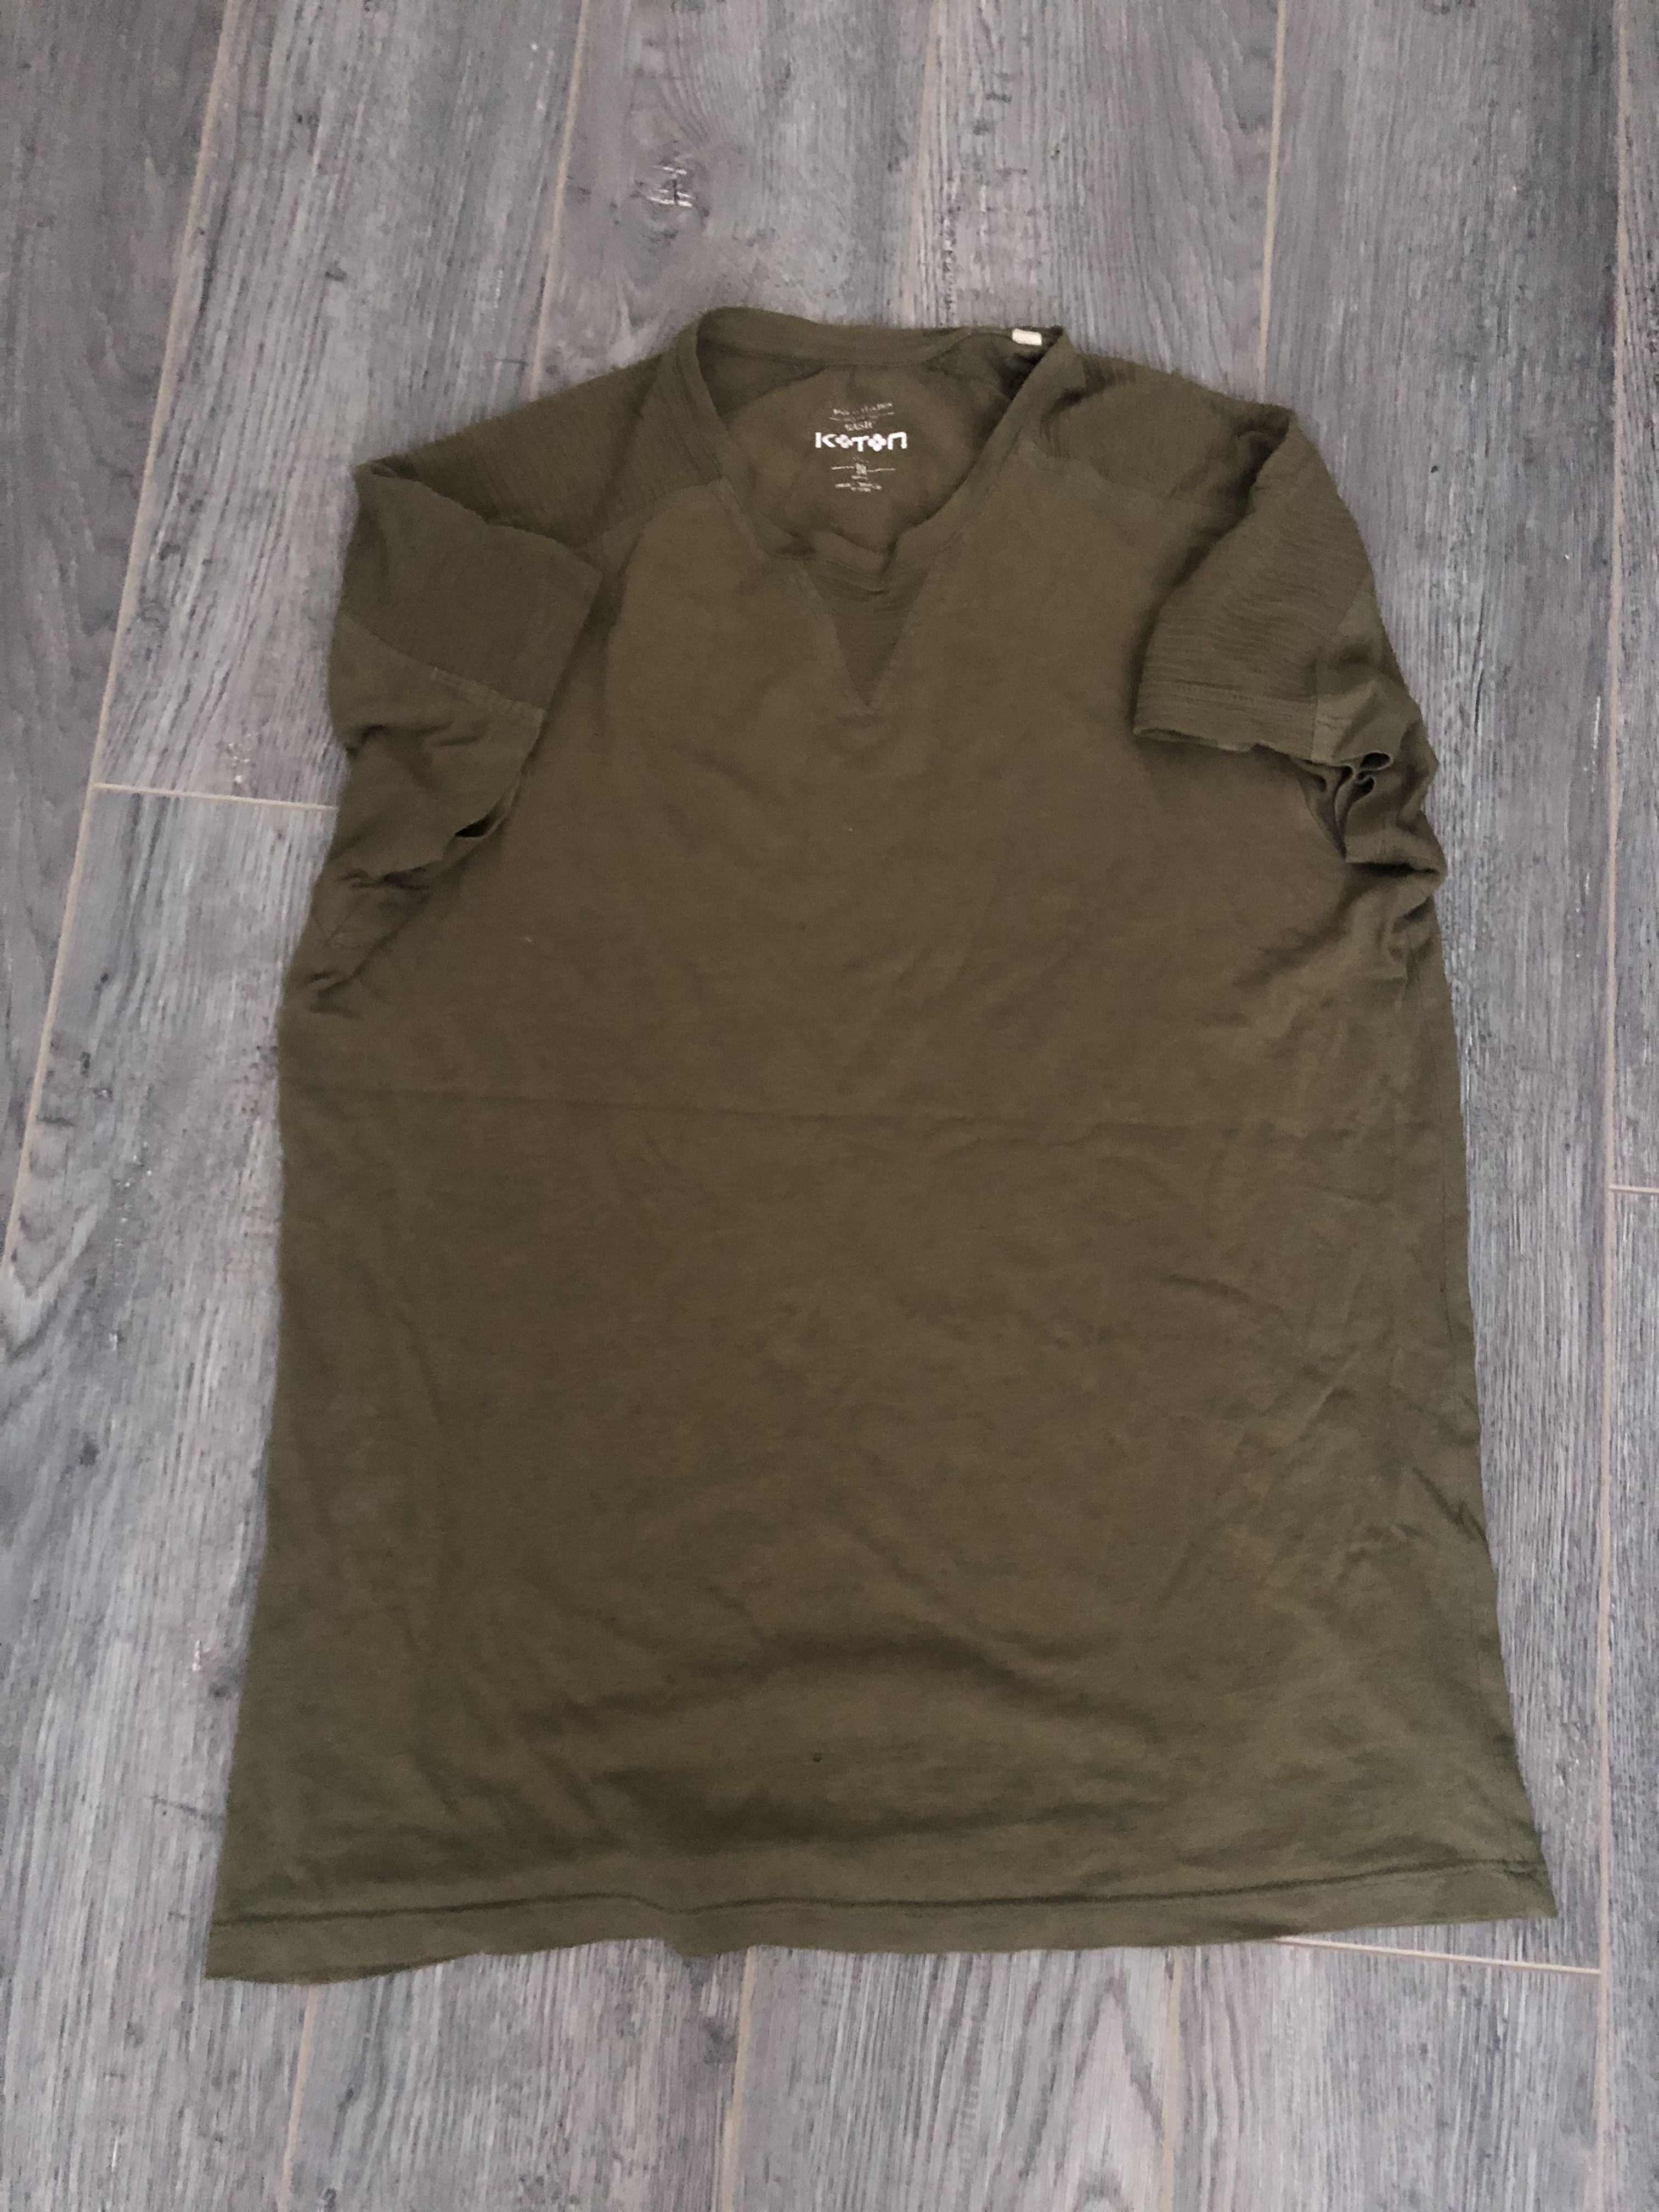clothes: (146, 287, 1568, 1980)
